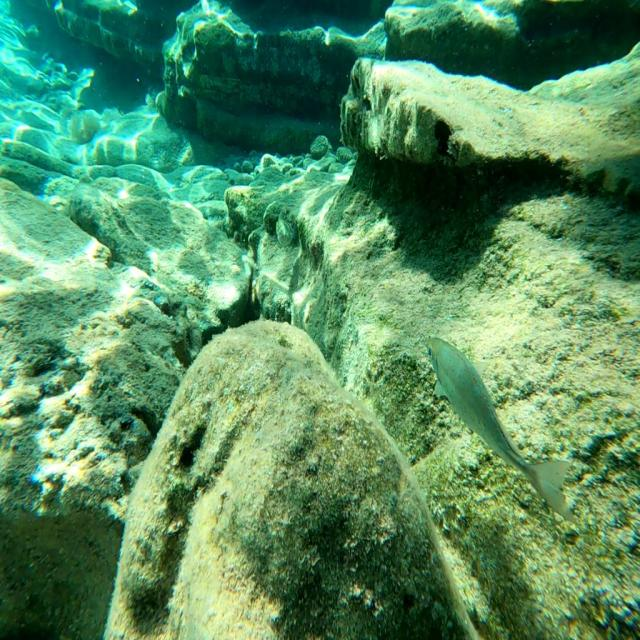Sokar Baligi: (418, 324, 581, 530)
